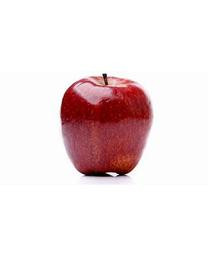apple: (59, 72, 153, 176)
